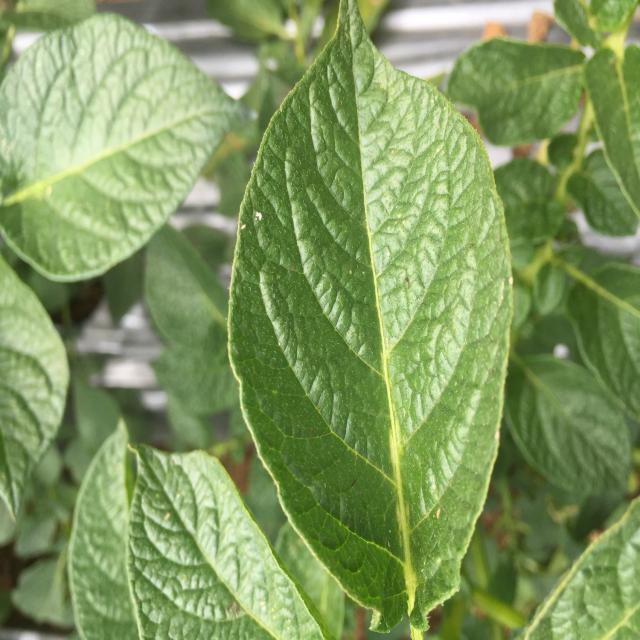healthy: (224, 2, 516, 634)
